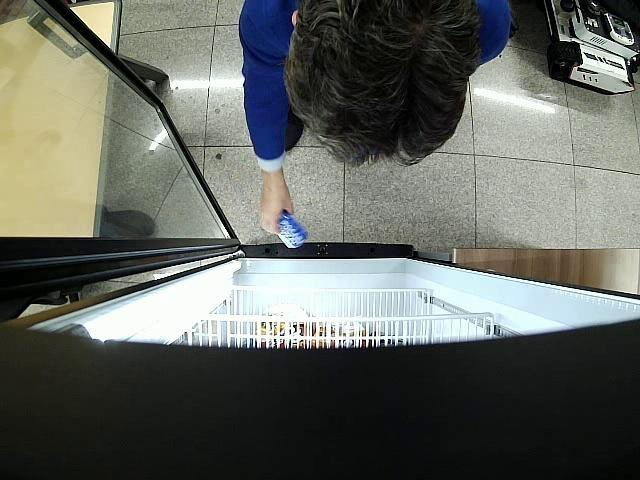13_pocariSweat: (275, 208, 308, 250)
